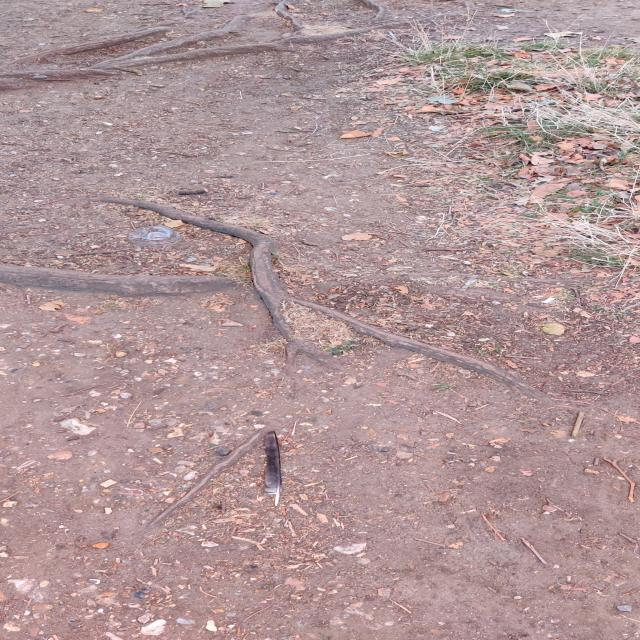litter: (292, 194, 496, 258)
